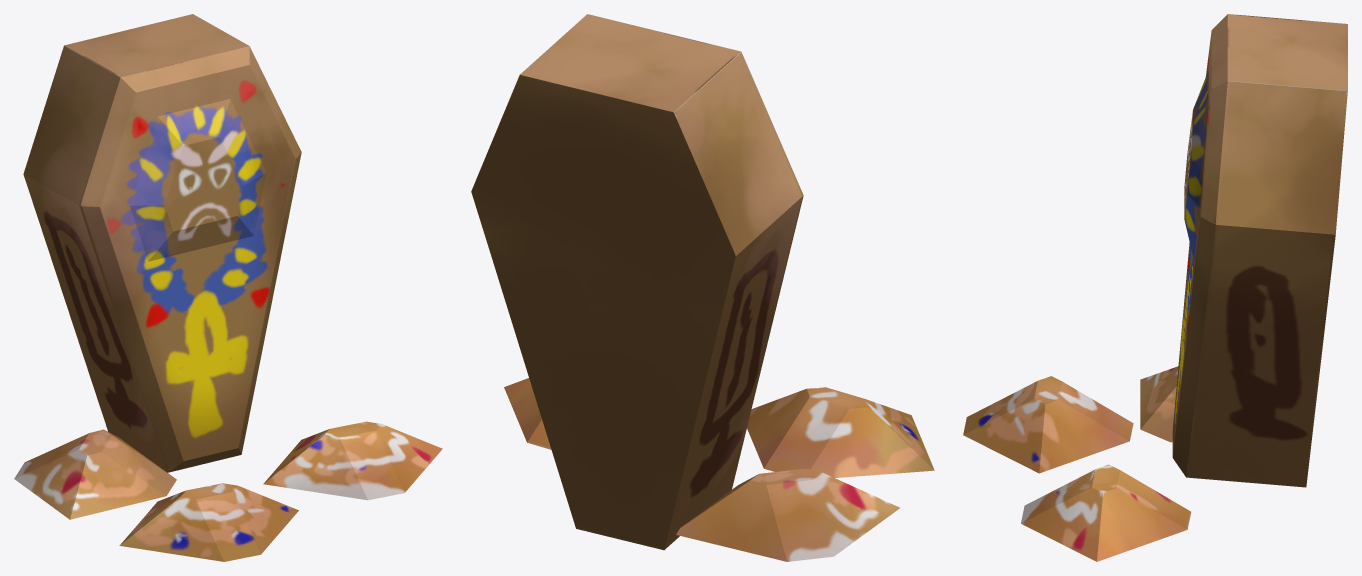
Rendered from Sarcophagus.glb.
3 views of the same model, side by side, from view 1: azimuth 30°, elevation 25°; view 2: azimuth 150°, elevation 25°; view 3: azimuth 270°, elevation 25° (orthographic). The views are drawn at different scales.
Visible parts, largest first — view 1: Cube; view 2: Cube; view 3: Cube.
Part boxes in pixels (box(x1,y1,x2,y2)): Cube: box(14, 14, 442, 561); Cube: box(471, 14, 934, 561); Cube: box(963, 14, 1347, 561).
Bounding box in the file's own units: 1.35 × 1.46 × 1.21.
1 material, 1 textured.
